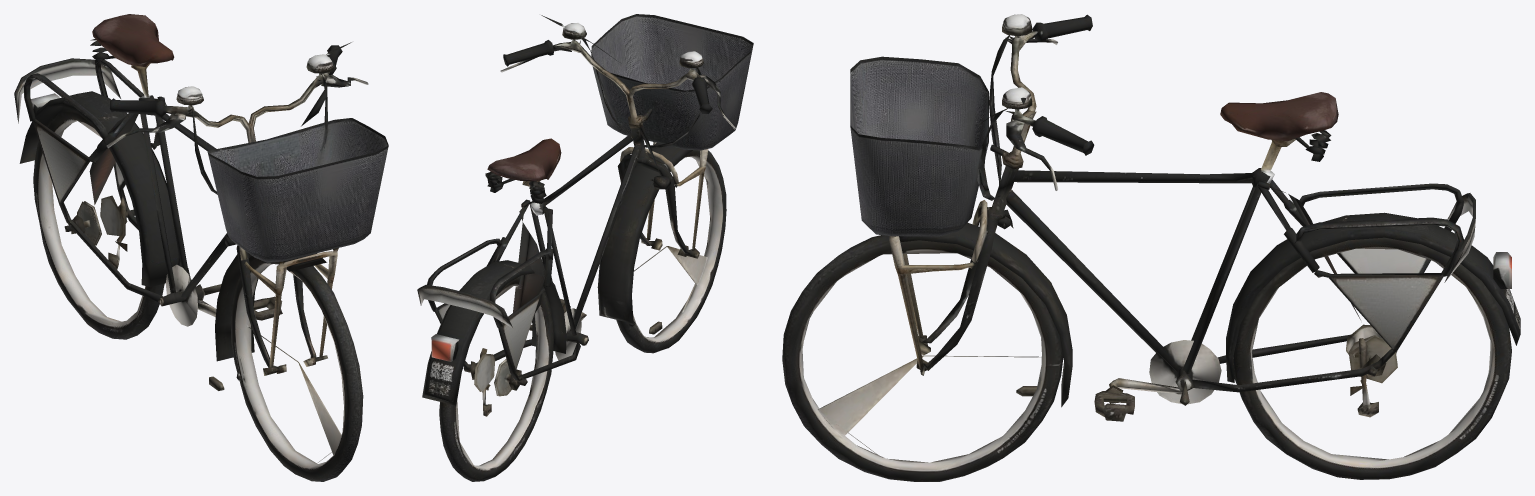
File: bicycle.glb
3 views of the same model, side by side, from view 1: azimuth 30°, elevation 25°; view 2: azimuth 150°, elevation 25°; view 3: azimuth 270°, elevation 25° (orthographic). The views are drawn at different scales.
Parts seen in each view (by area): view 1: tripo_node_bc5a2382-e646-40ee-8e0b-567e88938316; view 2: tripo_node_bc5a2382-e646-40ee-8e0b-567e88938316; view 3: tripo_node_bc5a2382-e646-40ee-8e0b-567e88938316.
Part boxes in pixels (x1,y1,x2,y2): tripo_node_bc5a2382-e646-40ee-8e0b-567e88938316: (14,14,388,481); tripo_node_bc5a2382-e646-40ee-8e0b-567e88938316: (417,14,753,481); tripo_node_bc5a2382-e646-40ee-8e0b-567e88938316: (782,14,1520,481).
Size of the model in its own units: 0.4707 by 0.6465 by 0.998.
Materials: 1 (1 with a texture image).
